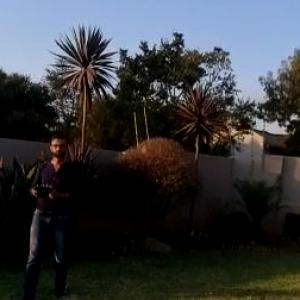follow: (10, 124, 84, 299)
